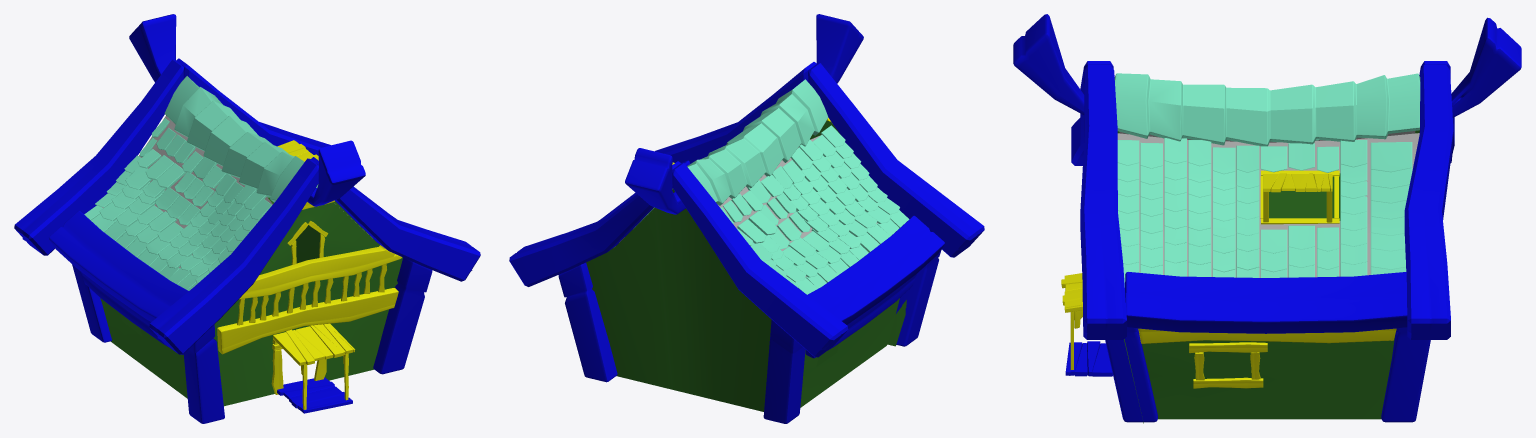
Rendered from dom1_Low.fbx.
The picture shows the model from 3 angles, left to right: view 1: azimuth 30°, elevation 25°; view 2: azimuth 150°, elevation 25°; view 3: azimuth 270°, elevation 25°; orthographic projection. The views are drawn at different scales.
Parts seen in each view (by area): view 1: Tiles_Low, Hut_LowHigh:polySurface1, Hut_LowHigh:pCube448, Hut_LowHigh:pCube361, Hut_LowHigh:pCube452, Hut_LowHigh:pCube6, Hut_LowHigh:pCube363, Hut_LowHigh:pCube366, Hut_LowHigh:pCube2, Hut_LowHigh:pCube365, Hut_LowHigh:polySurface21, Hut_LowHigh:pCube447 (+7 smaller); view 2: Hut_LowHigh:polySurface3, Tiles_Low, Hut_LowHigh:pCube361, Hut_LowHigh:pCube448, Hut_LowHigh:pCube452, Hut_LowHigh:pCube449, Hut_LowHigh:pCube363, Hut_LowHigh:pCube450, Hut_LowHigh:polySurface21, Hut_LowHigh:pCube453, Hut_LowHigh:pCube6, Hut_LowHigh:pCube447 (+3 smaller); view 3: Tiles_Low, Hut_LowHigh:polySurface9, Hut_LowHigh:pCube10, Hut_LowHigh:pCube449, Hut_LowHigh:pCube6, Hut_LowHigh:pCube363, Hut_LowHigh:pCube2, Hut_LowHigh:pCube450, Hut_LowHigh:pCube396, Hut_LowHigh:polySurface21, Hut_LowHigh:pCube446, Hut_LowHigh:pCube393 (+4 smaller).
Boxes of the visible parts, x1,y1,x2,y2 form: Tiles_Low: [84, 76, 372, 290]; Hut_LowHigh:polySurface1: [213, 201, 402, 406]; Hut_LowHigh:pCube448: [149, 158, 318, 354]; Hut_LowHigh:pCube361: [14, 59, 184, 255]; Hut_LowHigh:pCube452: [49, 210, 188, 321]; Hut_LowHigh:pCube6: [311, 157, 480, 281]; Hut_LowHigh:pCube363: [129, 14, 365, 206]; Hut_LowHigh:pCube366: [217, 288, 398, 354]; Hut_LowHigh:pCube2: [373, 257, 432, 374]; Hut_LowHigh:pCube365: [239, 245, 401, 299]; Hut_LowHigh:polySurface21: [100, 298, 187, 398]; Hut_LowHigh:pCube447: [183, 324, 224, 423]; Hut_LowHigh:polySurface3: [586, 189, 771, 411]; Tiles_Low: [615, 79, 899, 294]; Hut_LowHigh:pCube361: [672, 163, 848, 357]; Hut_LowHigh:pCube448: [808, 63, 984, 257]; Hut_LowHigh:pCube452: [807, 215, 944, 324]; Hut_LowHigh:pCube449: [509, 161, 681, 286]; Hut_LowHigh:pCube363: [625, 14, 863, 214]; Hut_LowHigh:pCube450: [558, 262, 617, 382]; Hut_LowHigh:polySurface21: [800, 298, 899, 407]; Hut_LowHigh:pCube453: [763, 320, 805, 422]; Hut_LowHigh:pCube6: [655, 62, 816, 163]; Hut_LowHigh:pCube447: [896, 249, 941, 346]; Tiles_Low: [1114, 73, 1420, 287]; Hut_LowHigh:polySurface9: [1137, 328, 1395, 419]; Hut_LowHigh:pCube10: [1125, 272, 1407, 333]; Hut_LowHigh:pCube449: [1404, 64, 1453, 339]; Hut_LowHigh:pCube6: [1080, 64, 1126, 339]; Hut_LowHigh:pCube363: [1013, 14, 1521, 117]; Hut_LowHigh:pCube2: [1105, 327, 1157, 422]; Hut_LowHigh:pCube450: [1381, 327, 1430, 422]; Hut_LowHigh:pCube396: [1138, 328, 1396, 343]; Hut_LowHigh:polySurface21: [1269, 173, 1340, 220]; Hut_LowHigh:pCube446: [1065, 341, 1112, 376]; Hut_LowHigh:pCube393: [1263, 173, 1332, 192].
Size of the model in its own units: 23.16 by 18.8 by 25.4.
